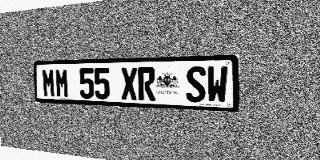5: (94, 68, 110, 99), (79, 68, 94, 99)
M: (55, 68, 69, 98), (42, 69, 56, 97)
R: (138, 67, 155, 101)
S: (186, 66, 206, 103)
W: (207, 66, 228, 103)
X: (121, 67, 138, 100)
